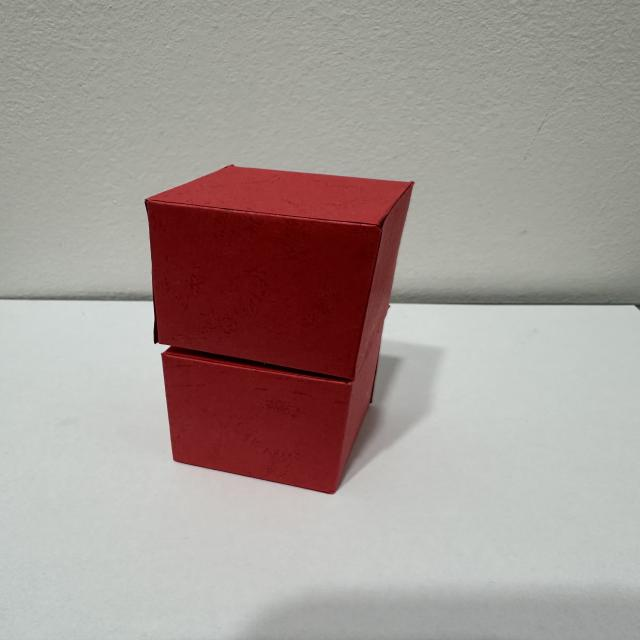red_cube: (125, 150, 437, 503)
